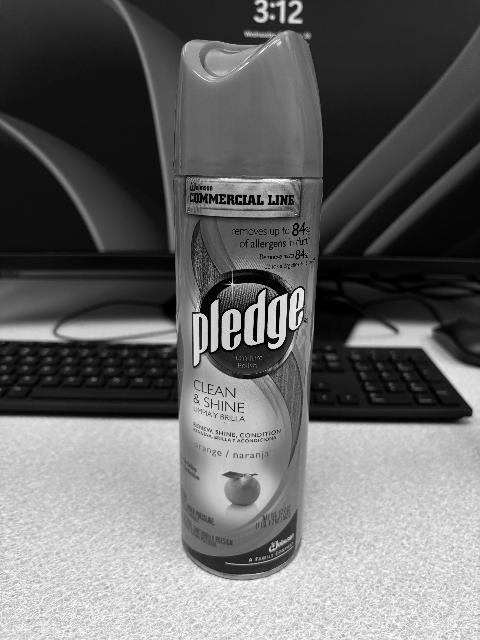Pledge: (173, 31, 323, 580)
